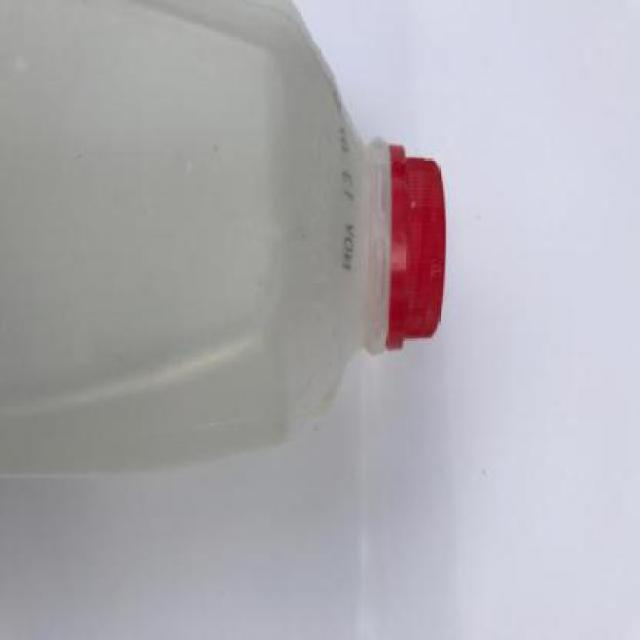PLASTIC: (1, 1, 448, 472), (386, 144, 446, 348)
